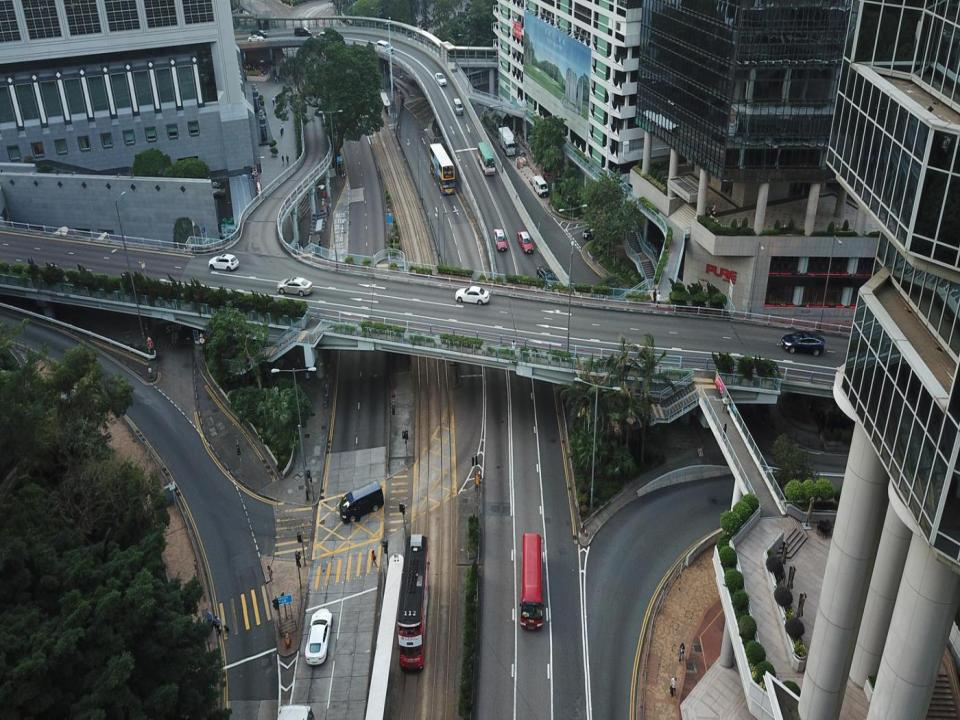bus: (398, 534, 430, 672), (519, 534, 544, 632), (429, 142, 455, 195), (478, 142, 494, 174)
car: (304, 608, 332, 665), (781, 331, 826, 356), (277, 277, 313, 296), (455, 285, 489, 305), (208, 253, 240, 271), (538, 266, 558, 290), (517, 229, 533, 253), (494, 228, 506, 252), (583, 227, 605, 240), (318, 32, 334, 44), (436, 72, 447, 87), (248, 35, 264, 43), (251, 30, 267, 38)
truck: (498, 126, 516, 155)
van: (339, 479, 384, 524), (532, 174, 549, 196), (376, 39, 394, 55), (294, 26, 312, 36), (453, 98, 463, 114)
